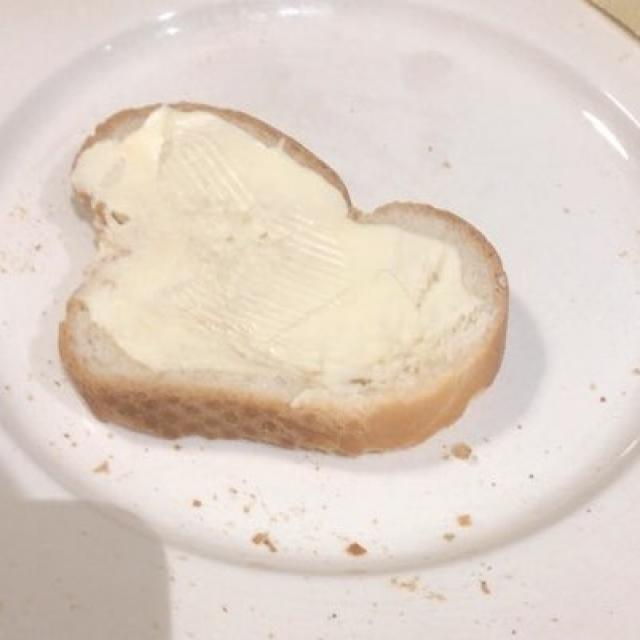bread: (65, 108, 504, 446)
butter: (60, 115, 485, 389)
